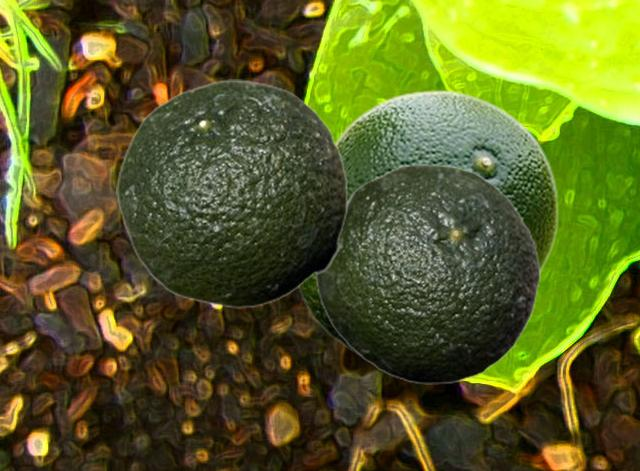calamansi: (116, 79, 347, 307), (315, 164, 540, 383), (335, 89, 559, 278), (297, 275, 368, 363)
